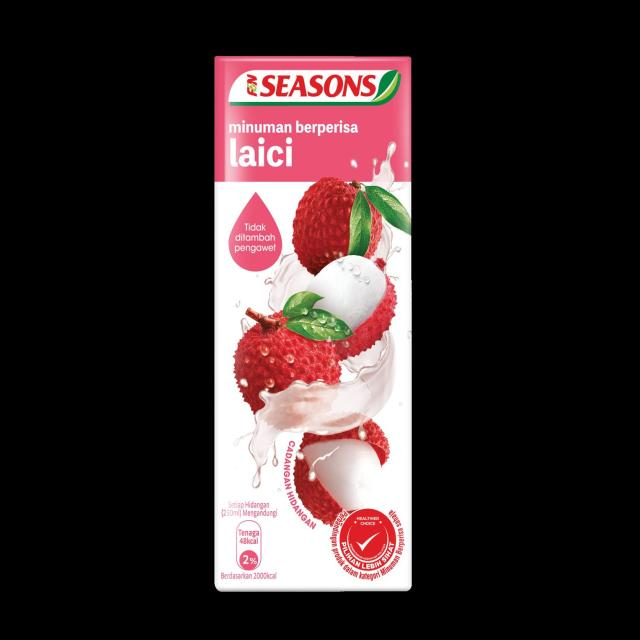drink carton: (208, 50, 415, 600)
